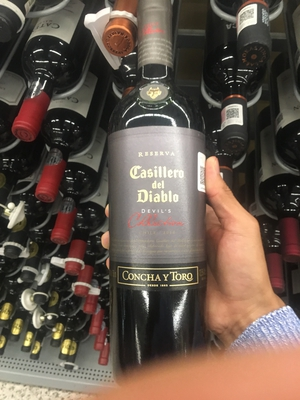casillero del diablo devils collection rojo: (96, 16, 209, 388)
